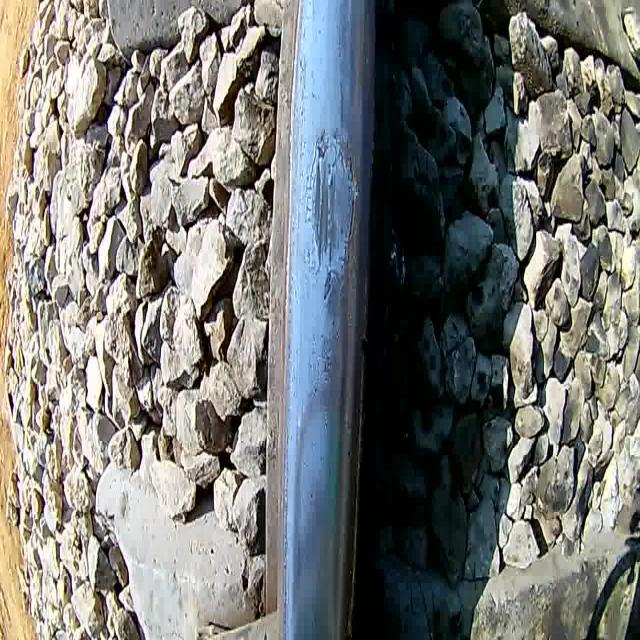Cracks: (343, 137, 360, 270)
Squats: (306, 124, 354, 265), (321, 266, 348, 321)
